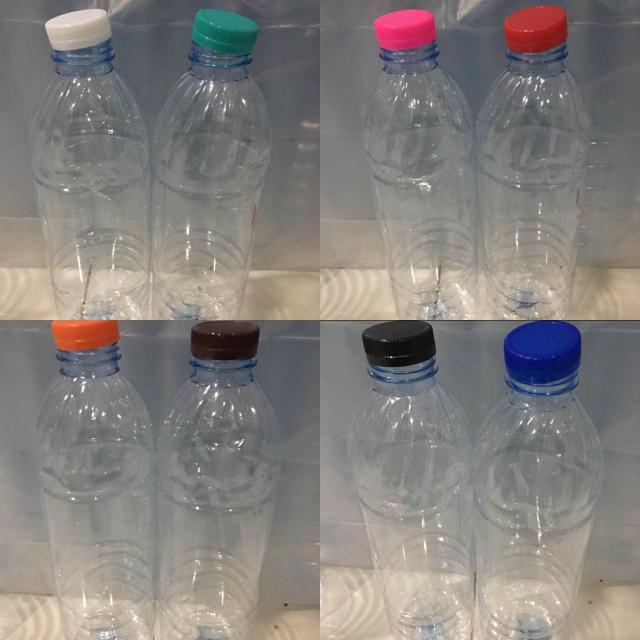plastik: (474, 321, 604, 640), (348, 320, 474, 640), (158, 321, 281, 640), (38, 320, 155, 640), (30, 9, 150, 319), (152, 9, 272, 319), (476, 6, 590, 318), (364, 10, 476, 318)
